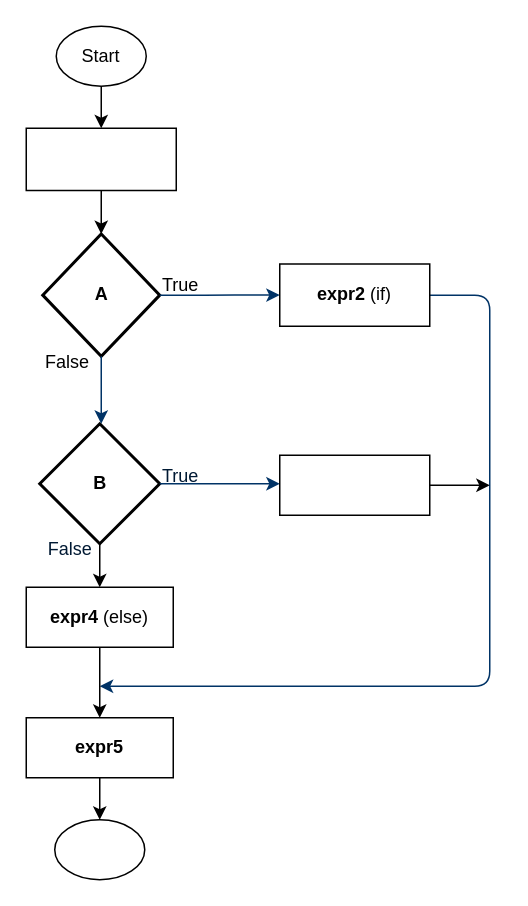
The diagram is 528 pixels wide and 906 high, and some of its shapes have lost their labels. Here are the shapes that lost their labels. From the top down, the centre of each, then its label:
point 100,158: expr1
point 354,484: expr3 (elif)
point 99,849: End
